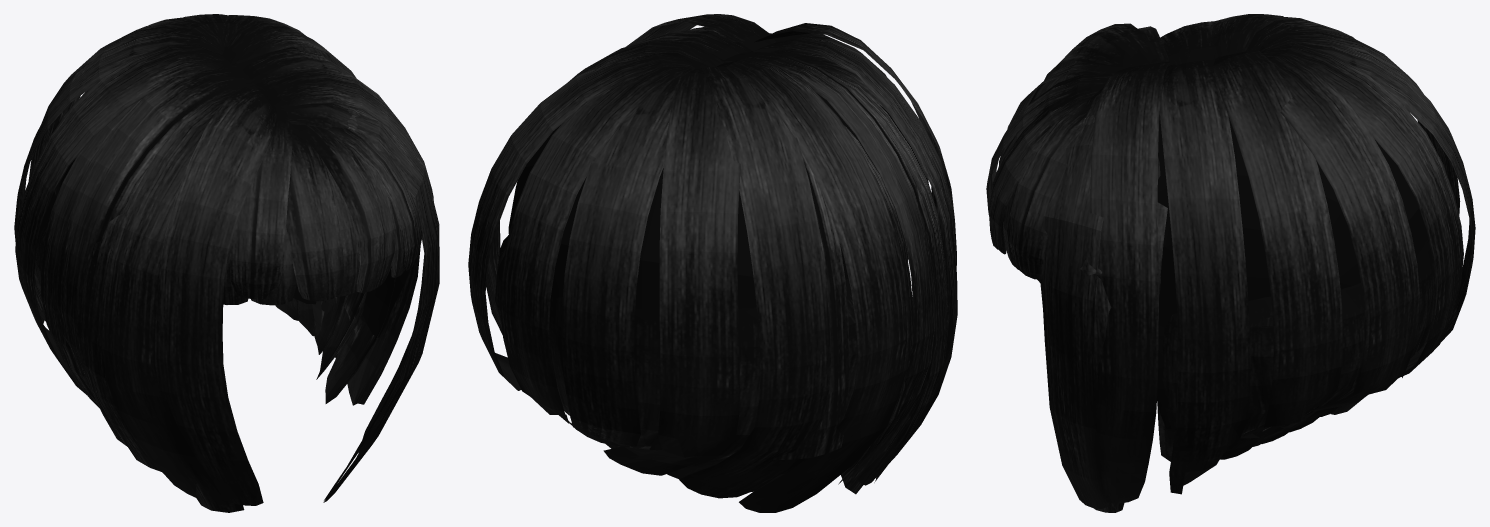
File: Girl_FXA.obj
The picture shows the model from 3 angles, left to right: view 1: azimuth 30°, elevation 25°; view 2: azimuth 150°, elevation 25°; view 3: azimuth 270°, elevation 25°; orthographic projection. The views are drawn at different scales.
Parts seen in each view (by area): view 1: ValFashionH_Shape; view 2: ValFashionH_Shape; view 3: ValFashionH_Shape.
Part boxes in pixels (x1=…): ValFashionH_Shape: x1=14, y1=14, x2=439, y2=512; ValFashionH_Shape: x1=468, y1=14, x2=957, y2=512; ValFashionH_Shape: x1=986, y1=14, x2=1475, y2=512.
Bounding box in the file's own units: 2.76 × 3.11 × 3.05.
